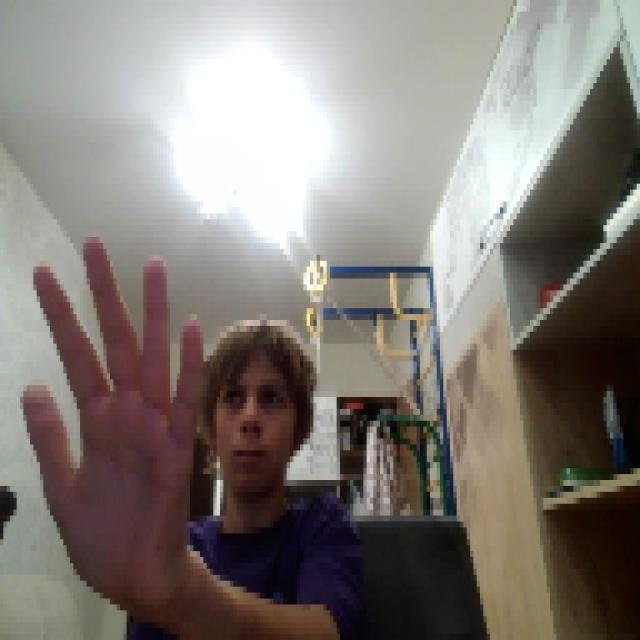hand: (17, 225, 200, 622)
